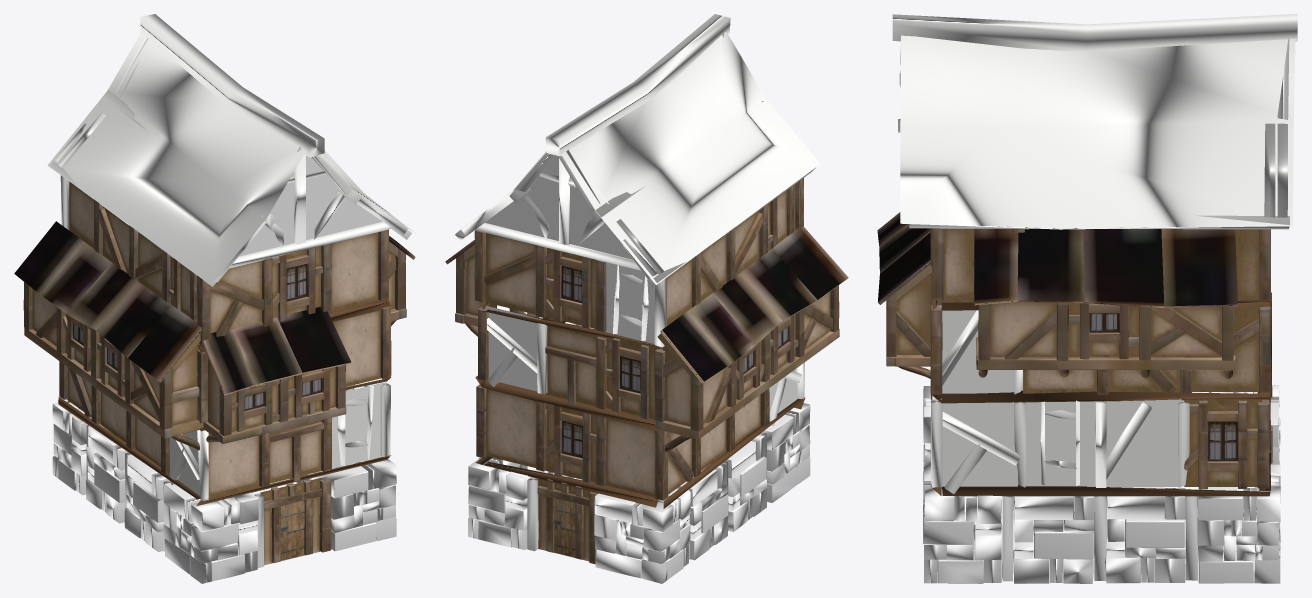
3 renders of one model, left to right at view 1: azimuth 30°, elevation 25°; view 2: azimuth 150°, elevation 25°; view 3: azimuth 270°, elevation 25°, orthographic. The views are drawn at different scales.
Visible parts, largest first — view 1: bay window 2.002, Cube.019, corner stone wall 1.005; view 2: bay window 2.002, Cube.019, corner stone wall 1.005; view 3: Cube.019, bay window 2.002, corner stone wall 1.005.
Part boxes in pixels (x1,y1,x2,y2): bay window 2.002: (14, 181, 415, 565); Cube.019: (47, 14, 415, 500); corner stone wall 1.005: (52, 400, 396, 583); bay window 2.002: (445, 177, 848, 564); Cube.019: (455, 14, 820, 425); corner stone wall 1.005: (468, 403, 810, 583); Cube.019: (892, 14, 1297, 493); bay window 2.002: (877, 212, 1272, 496); corner stone wall 1.005: (923, 385, 1280, 583).
Size of the model in its own units: 9.86 by 14.61 by 10.83.
3 materials, 1 textured.
